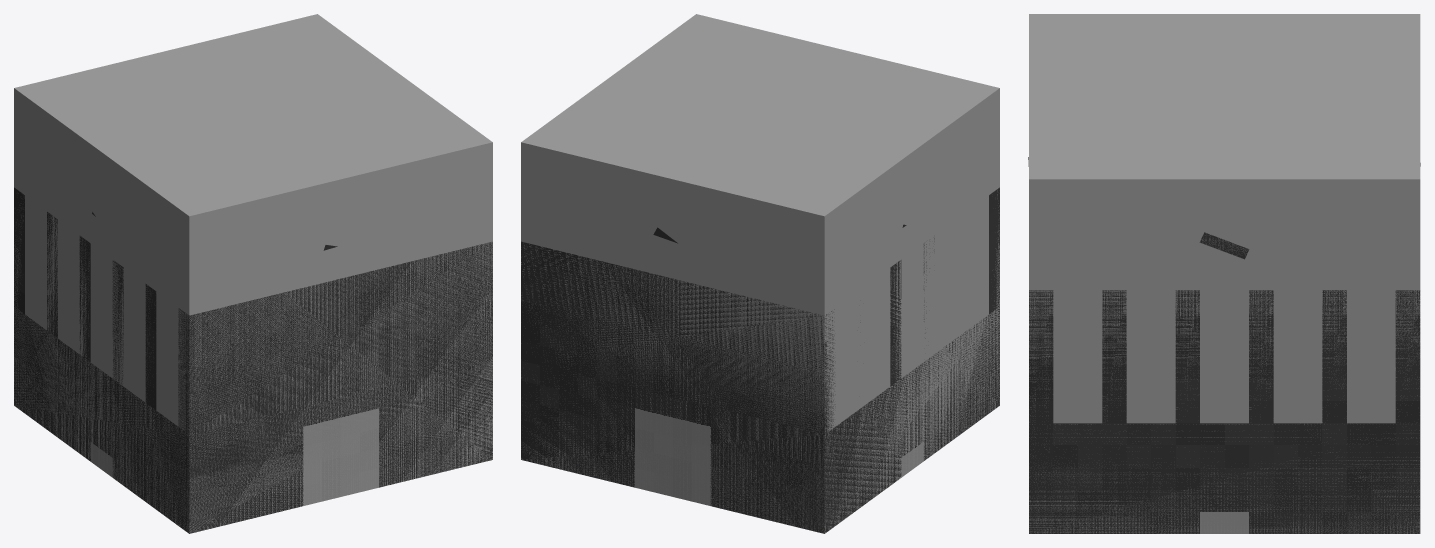
The model's file is activethermaldissipatora.obj.
3 views of the same model, side by side, from view 1: azimuth 30°, elevation 25°; view 2: azimuth 150°, elevation 25°; view 3: azimuth 270°, elevation 25° (orthographic). The views are drawn at different scales.
Visible parts, largest first — view 1: Minecraft_Block_Cube, main; view 2: Minecraft_Block_Cube, main; view 3: Minecraft_Block_Cube, main, rot.
Part boxes in pixels (<box>): Minecraft_Block_Cube: <box>14,14,492,533</box>; main: <box>14,187,492,533</box>; Minecraft_Block_Cube: <box>521,14,999,533</box>; main: <box>521,187,999,533</box>; Minecraft_Block_Cube: <box>1029,14,1420,533</box>; main: <box>1029,290,1420,533</box>; rot: <box>1028,157,1420,259</box>.
Bounding box in the file's own units: 1 × 1 × 1.
Materials: 2 (1 with a texture image).
